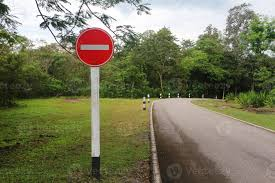No entry: (75, 28, 114, 67)
